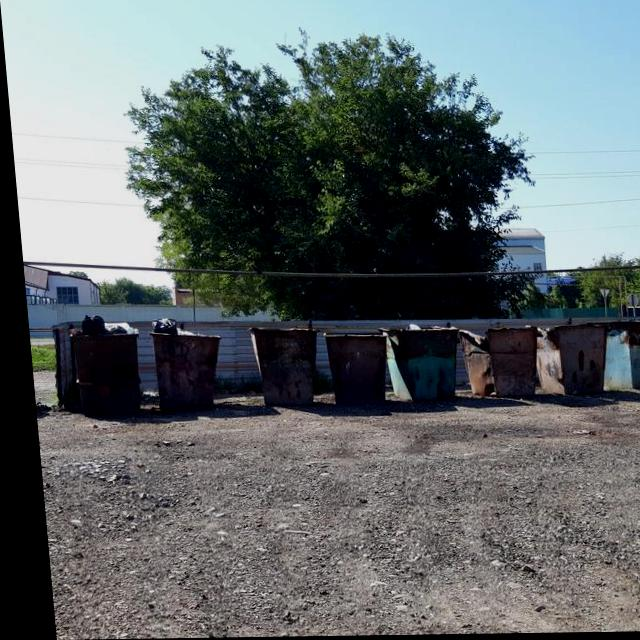Trash_Can_Empty: (244, 328, 309, 405), (319, 334, 379, 405)
Trash_Can_Full: (63, 315, 133, 416), (144, 318, 215, 412)
